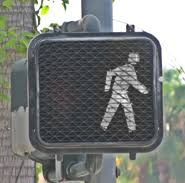pedestrian_walk: (31, 36, 163, 149)
